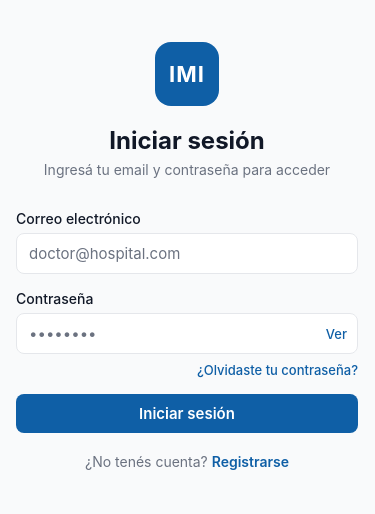
Test: LoginScreen › shows validation error for invalid email
In the field with placeholder "doctor@hospital.com": (187, 254) [17,234,357,273], type "bad"
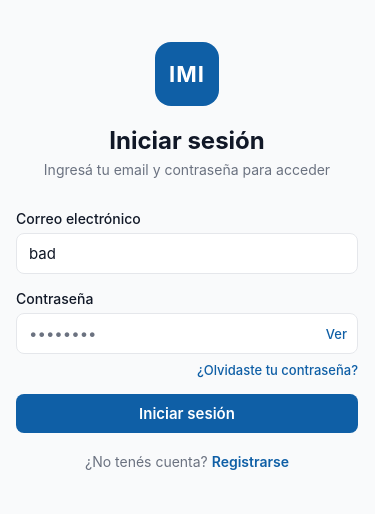
In the password field with placeholder "••••••••": (171, 334) [17,314,326,353], type "pass"
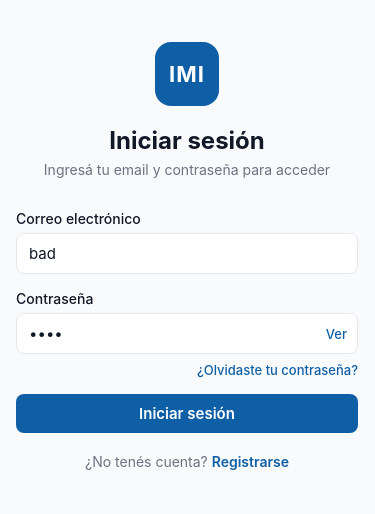
Click the text "Iniciar sesión" below "¿Olvidaste tu contraseña?": (187, 414) [139,404,235,423]
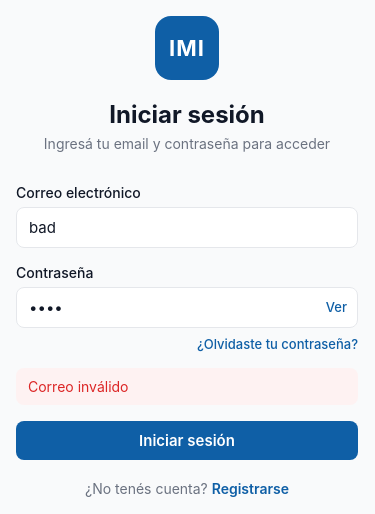
Expected: the text "Correo inválido" is shown, [28,378,128,394]
